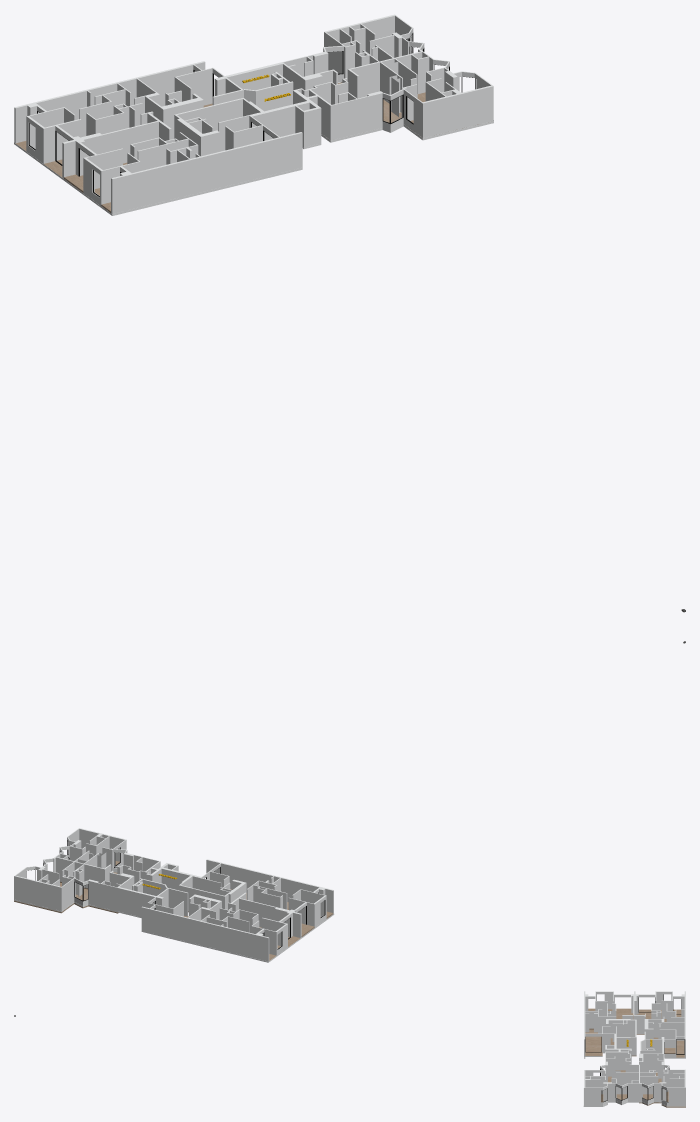
File: planta-8.glb
The picture shows the model from 3 angles, top to bottom: view 1: azimuth 30°, elevation 25°; view 2: azimuth 150°, elevation 25°; view 3: azimuth 270°, elevation 25°; orthographic projection. The views are drawn at different scales.
Visible parts, largest first — view 1: Component_428; view 2: Component_428; view 3: Component_428, tipo-1, tipo-4.
Part boxes in pixels (x1,y1,x2,y2): Component_428: (14, 14, 685, 612); Component_428: (14, 641, 685, 962); Component_428: (14, 991, 685, 1106); tipo-1: (585, 1029, 636, 1056); tipo-4: (653, 1037, 684, 1057).
Size of what is drawn, in the model's own units: 34.15 by 3.51 by 100.
Materials: 10 (8 with a texture image).
